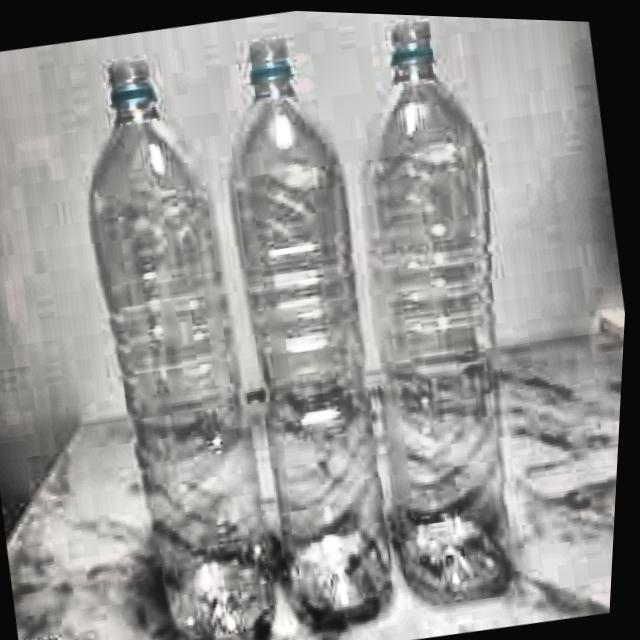Bottles: (44, 30, 309, 640), (311, 10, 567, 621), (187, 15, 432, 640)
